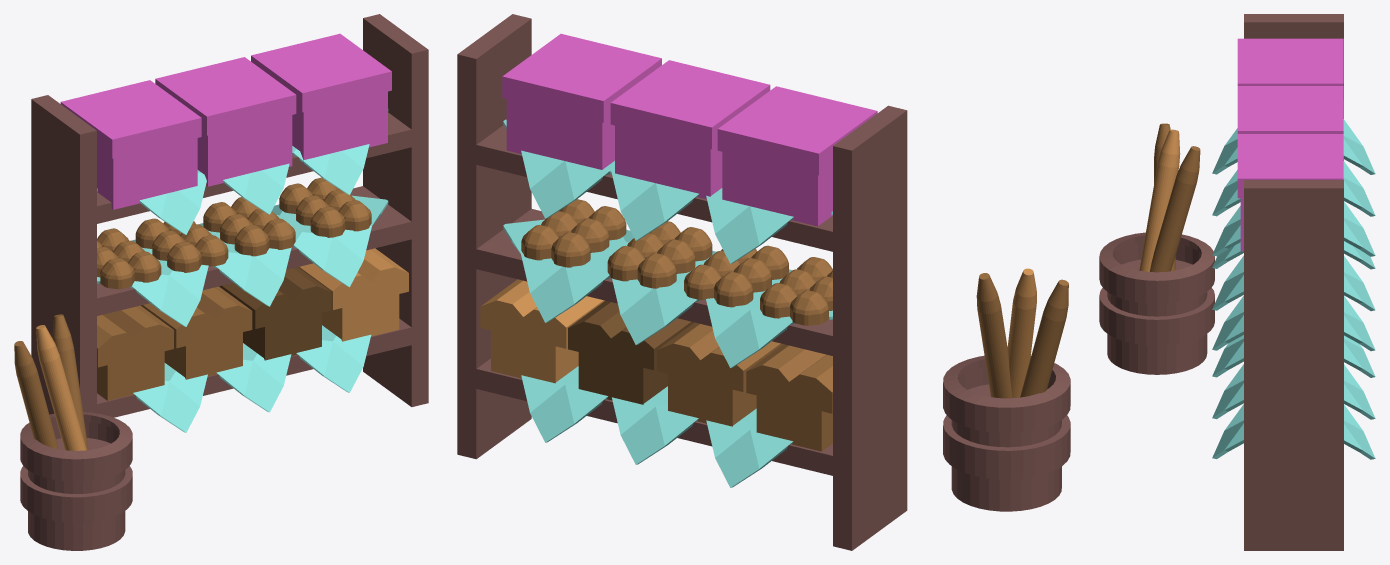
Rendered from BreadSHelf.fbx.
The picture shows the model from 3 angles, left to right: view 1: azimuth 30°, elevation 25°; view 2: azimuth 150°, elevation 25°; view 3: azimuth 270°, elevation 25°; orthographic projection. The views are drawn at different scales.
Visible parts, largest first — view 1: Cube.002, Cube.001, Cube.033, Cube.035, Cube.034, Cube.005, Cube.007, Cube.006, Cube.008, Cylinder.002, Cylinder, Cube (+29 smaller); view 2: Cube.002, Cube.001, Cube.033, Cube.035, Cube.034, Cube.005, Cube.007, Cube.006, Cube.008, Cylinder.002, Cylinder, Cube (+29 smaller); view 3: Cube.001, Cube.035, Cube.034, Cube.033, Cylinder.002, Cylinder, Cylinder.001, Cylinder.004, Cube.002, Cylinder.005, Plane.004, Plane.005 (+8 smaller).
Boxes of the visible parts, box(x1,y1,x2,y2) form: Cube.002: box(31, 95, 96, 414); Cube.001: box(363, 14, 428, 406); Cube.033: box(60, 80, 201, 209); Cube.035: box(251, 33, 391, 163); Cube.034: box(155, 57, 296, 186); Cube.005: box(97, 305, 173, 400); Cube.007: box(219, 267, 331, 360); Cube.006: box(141, 286, 252, 379); Cube.008: box(298, 248, 408, 341); Cylinder.002: box(20, 412, 132, 481); Cylinder: box(28, 422, 125, 550); Cube: box(86, 186, 423, 318); Cube.002: box(833, 105, 907, 550); Cube.001: box(457, 14, 531, 459); Cube.033: box(717, 86, 877, 226); Cube.035: box(502, 33, 661, 169); Cube.034: box(610, 60, 770, 199); Cube.005: box(746, 344, 832, 451); Cube.007: box(568, 300, 694, 404); Cube.006: box(657, 322, 783, 426); Cube.008: box(480, 279, 604, 383); Cylinder.002: box(943, 355, 1070, 433); Cylinder: box(951, 367, 1061, 511); Cube: box(462, 209, 845, 358); Cube.001: box(1244, 180, 1343, 550); Cube.035: box(1237, 134, 1343, 251); Cube.034: box(1237, 86, 1343, 133); Cube.033: box(1237, 38, 1343, 85); Cylinder.002: box(1099, 232, 1214, 303); Cylinder: box(1107, 243, 1207, 374); Cylinder.001: box(1099, 287, 1214, 345); Cylinder.004: box(1150, 146, 1200, 272); Cube.002: box(1244, 14, 1343, 99); Cylinder.005: box(1139, 129, 1180, 271); Plane.004: box(1212, 295, 1375, 351); Plane.005: box(1212, 255, 1375, 311).
Size of the model in its own units: 1071 by 824 by 553.
